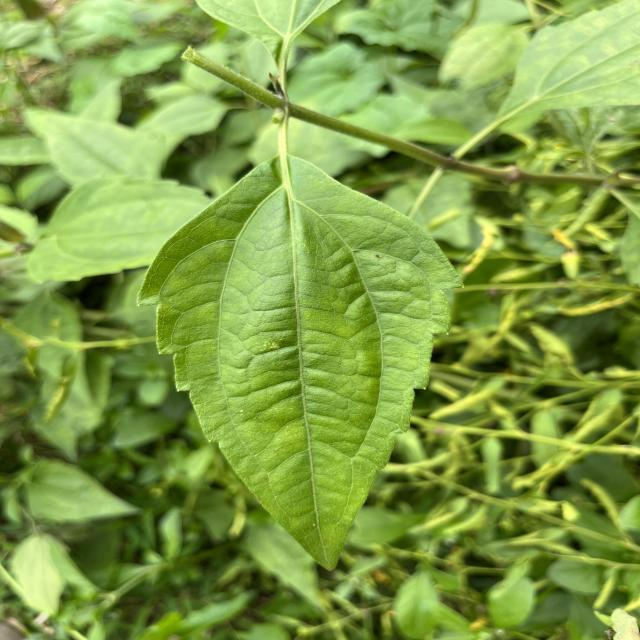Chromolaena odorata: (132, 150, 470, 576)
